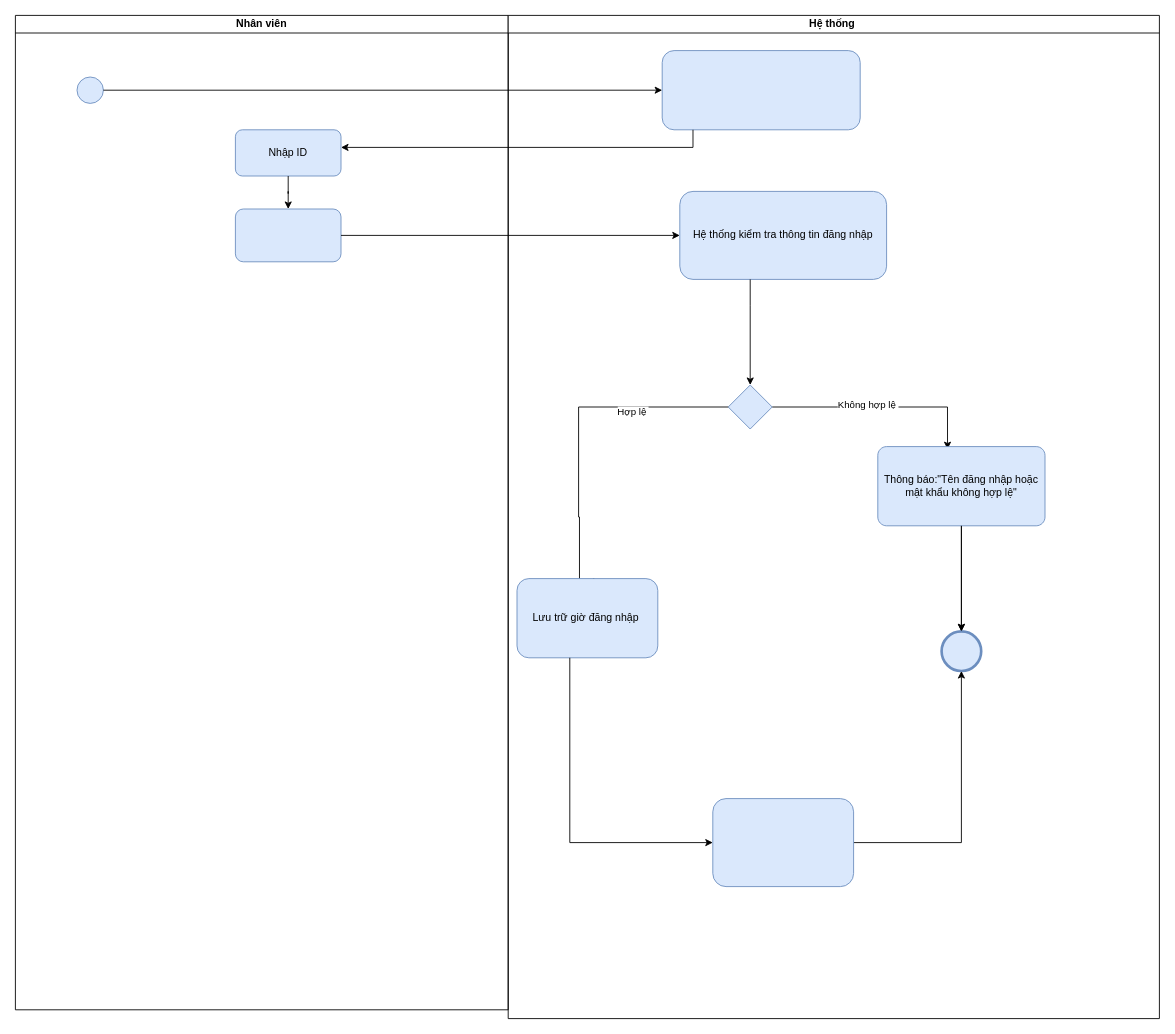
Some shapes in this 1175 by 1034 pixel diagram are drawn without their labels. Each missing label, with the centre of its shape:
"Hiển thị các thao tác" belongs at pixel 783 842.
"Hiển thị màn hình đăng nhập" belongs at pixel 760 90.
"Nhập mật khẩu" belongs at pixel 288 235.
